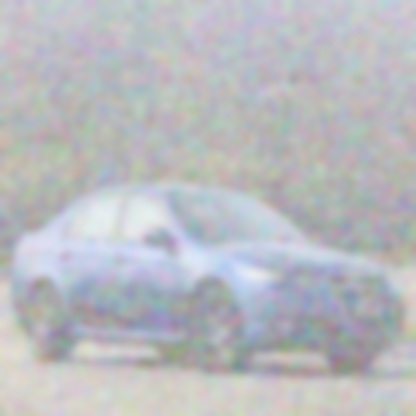Vehicle: (10, 180, 408, 377)
